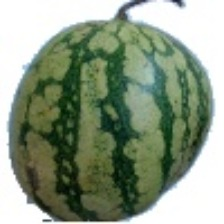watermelon: (5, 6, 178, 206)
